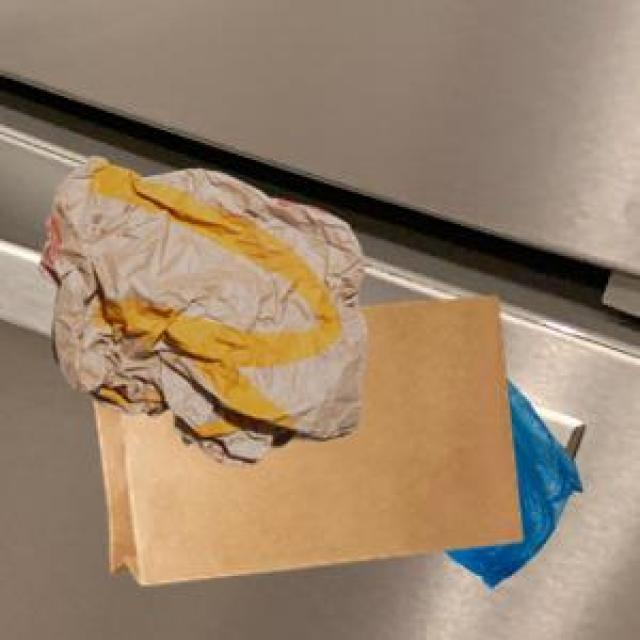paper: (91, 292, 518, 580), (36, 152, 363, 461)
